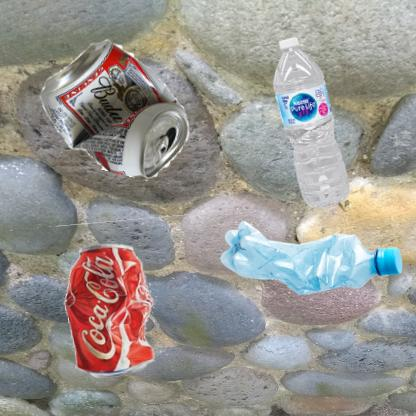botella: (213, 10, 416, 249), (213, 213, 416, 308)
lata: (10, 10, 249, 207), (10, 213, 218, 416)
